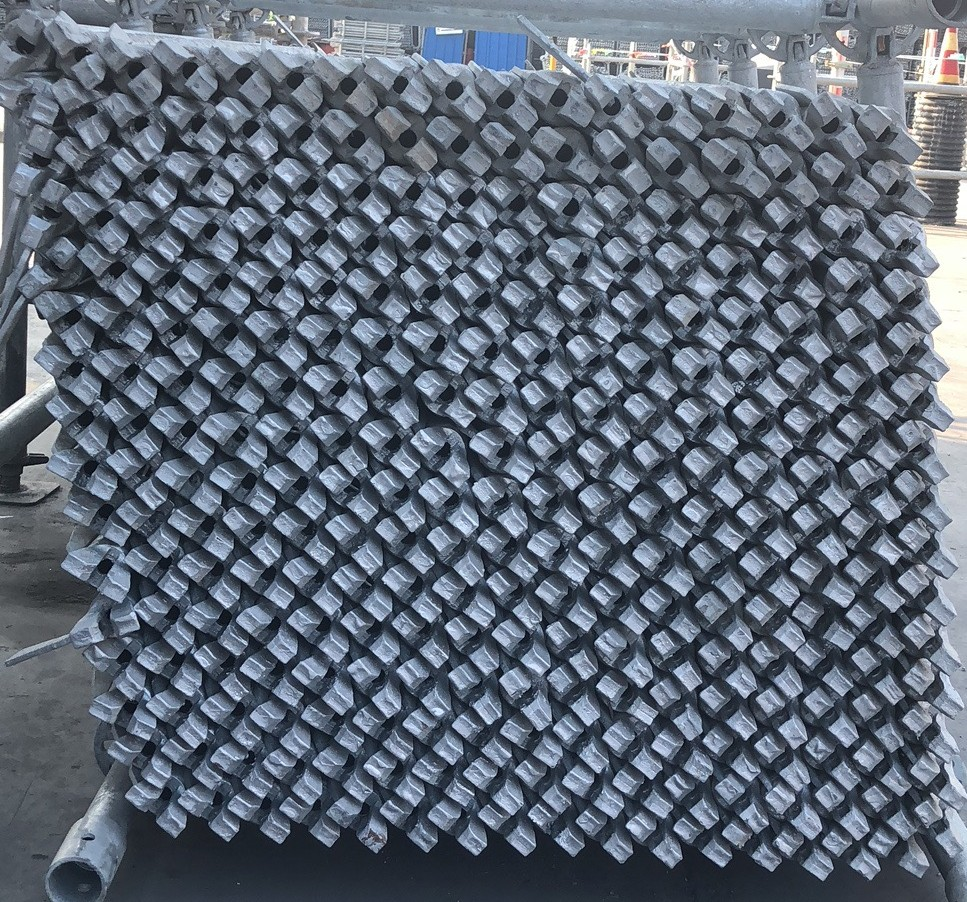NHsquare_steel: (96, 28, 166, 106), (641, 132, 712, 204), (372, 102, 442, 175), (107, 143, 179, 213), (753, 138, 822, 211), (422, 111, 496, 179), (214, 151, 289, 218), (631, 77, 706, 143), (99, 87, 165, 162), (43, 14, 107, 91), (210, 93, 280, 163), (223, 202, 293, 272), (74, 238, 143, 309), (154, 93, 228, 159), (163, 203, 239, 267), (149, 34, 220, 102), (116, 198, 187, 266), (417, 56, 489, 123), (472, 62, 544, 129), (265, 101, 337, 168), (531, 122, 603, 189), (821, 256, 893, 323), (860, 158, 937, 220), (158, 149, 235, 211), (319, 105, 388, 174), (257, 43, 325, 113), (749, 83, 817, 153), (271, 154, 341, 222), (642, 184, 713, 251), (362, 50, 434, 116), (813, 202, 887, 266), (373, 163, 448, 226), (720, 342, 788, 411), (326, 160, 393, 230), (605, 284, 675, 351), (534, 178, 605, 244), (812, 148, 884, 213), (592, 126, 656, 199), (701, 138, 774, 202), (207, 39, 274, 108), (56, 134, 123, 203), (730, 447, 799, 514), (128, 250, 198, 316), (86, 347, 157, 412), (806, 86, 870, 158), (880, 262, 942, 336), (524, 65, 599, 126), (433, 165, 501, 232), (59, 189, 127, 256), (774, 352, 841, 420), (479, 118, 548, 184), (345, 314, 416, 378), (341, 265, 414, 327), (495, 279, 568, 341), (484, 173, 551, 240), (100, 446, 167, 513), (334, 211, 400, 279), (49, 74, 108, 150), (182, 256, 253, 319), (236, 257, 307, 320), (564, 329, 626, 401), (389, 213, 455, 280), (438, 219, 504, 286), (582, 69, 647, 137), (554, 282, 622, 347), (680, 443, 745, 511), (856, 102, 925, 166), (761, 195, 825, 264), (716, 292, 786, 355), (591, 182, 659, 246), (771, 296, 834, 365), (140, 299, 202, 369), (152, 458, 224, 518), (689, 83, 762, 142), (315, 51, 380, 117), (190, 305, 256, 370), (243, 306, 308, 372), (877, 211, 941, 278), (664, 290, 732, 353), (687, 538, 750, 606), (755, 250, 827, 309), (292, 257, 358, 321), (281, 211, 349, 273), (885, 371, 953, 433), (834, 411, 902, 473), (355, 418, 423, 480), (196, 356, 265, 417), (83, 295, 153, 355), (200, 411, 270, 471), (844, 454, 903, 525), (205, 462, 277, 520), (601, 237, 665, 302), (674, 342, 738, 407), (491, 225, 554, 291), (576, 480, 639, 546), (781, 404, 849, 465), (313, 465, 382, 525), (172, 551, 241, 611), (707, 241, 771, 305), (736, 547, 800, 611), (398, 265, 463, 328), (43, 394, 106, 459), (789, 455, 852, 520), (36, 345, 102, 407), (543, 237, 616, 293), (405, 755, 478, 811), (800, 685, 861, 752), (673, 397, 742, 456), (464, 429, 538, 484), (789, 553, 859, 611), (58, 549, 129, 606), (225, 554, 296, 611), (887, 322, 952, 384), (598, 721, 663, 783), (302, 363, 368, 424), (149, 407, 215, 468), (122, 543, 189, 603), (6, 121, 58, 198), (572, 436, 641, 494), (625, 492, 694, 550), (454, 268, 511, 338), (32, 289, 89, 359), (678, 498, 749, 554), (510, 329, 574, 391), (616, 338, 678, 402), (572, 385, 634, 449), (145, 356, 210, 417), (425, 520, 486, 585), (378, 564, 443, 625), (729, 398, 795, 458), (232, 605, 298, 665), (441, 611, 501, 677), (702, 192, 770, 250), (833, 306, 891, 374), (647, 675, 705, 743), (298, 311, 361, 373), (835, 360, 898, 422), (411, 367, 473, 430), (255, 413, 318, 475), (655, 241, 719, 302), (526, 427, 587, 491), (20, 238, 80, 303), (361, 366, 421, 431), (263, 462, 328, 522), (734, 501, 799, 561), (742, 593, 807, 653), (629, 439, 688, 505), (525, 528, 591, 587), (533, 575, 599, 634), (313, 413, 371, 480), (18, 177, 71, 250), (428, 574, 498, 629), (463, 377, 526, 438), (898, 520, 959, 583), (386, 610, 449, 671), (252, 361, 316, 421), (340, 654, 400, 718), (459, 326, 525, 384), (894, 469, 952, 535), (635, 587, 701, 645), (168, 507, 235, 564), (401, 320, 471, 374), (198, 692, 261, 752), (416, 476, 480, 535), (753, 731, 812, 795), (114, 501, 179, 559), (225, 504, 283, 569), (634, 539, 699, 597), (577, 529, 643, 586), (347, 709, 414, 765), (257, 751, 325, 806), (592, 673, 661, 727), (45, 449, 118, 500), (846, 554, 907, 615), (339, 606, 400, 667), (625, 390, 685, 452), (841, 507, 903, 567), (331, 565, 391, 627), (325, 512, 384, 575), (522, 802, 585, 861), (699, 727, 763, 785), (414, 425, 471, 490), (471, 475, 528, 540), (474, 526, 539, 583), (898, 566, 955, 631), (270, 509, 336, 565), (521, 478, 582, 538), (285, 559, 345, 620), (589, 578, 651, 637), (510, 758, 572, 817), (521, 381, 579, 444), (791, 502, 849, 565), (595, 625, 653, 688), (697, 684, 760, 742), (450, 713, 513, 771), (327, 796, 390, 854), (428, 802, 491, 860), (748, 638, 805, 702), (487, 568, 543, 633), (123, 783, 188, 839), (62, 499, 133, 550), (496, 720, 563, 774), (375, 516, 435, 576), (699, 635, 757, 697), (289, 658, 351, 716), (489, 620, 552, 677), (850, 692, 907, 755), (761, 785, 824, 842), (898, 417, 950, 486), (792, 598, 857, 653), (448, 660, 502, 726), (207, 746, 273, 800), (500, 664, 553, 731), (466, 758, 525, 818), (904, 618, 962, 679), (403, 709, 464, 767), (853, 740, 911, 801), (146, 693, 208, 750), (369, 470, 425, 533), (652, 729, 716, 784), (668, 813, 732, 868), (183, 602, 248, 656), (296, 704, 366, 754), (224, 794, 290, 847), (236, 653, 303, 705), (381, 798, 440, 857), (752, 689, 808, 751), (103, 740, 171, 791), (104, 397, 159, 460), (276, 796, 339, 851), (649, 629, 703, 693), (561, 767, 625, 821), (611, 767, 675, 821), (176, 788, 240, 842), (361, 755, 427, 807), (250, 703, 308, 762), (846, 603, 906, 660), (552, 715, 609, 775), (134, 595, 190, 656), (623, 814, 684, 870), (82, 646, 144, 701), (545, 617, 598, 681), (548, 665, 601, 729), (821, 828, 885, 881), (190, 644, 248, 702), (903, 704, 959, 764), (315, 749, 377, 803), (815, 779, 868, 842), (854, 644, 906, 708), (138, 647, 202, 699), (867, 828, 932, 879), (576, 810, 634, 867), (805, 735, 861, 794), (288, 606, 348, 661), (86, 697, 156, 744), (773, 826, 835, 879), (2, 10, 47, 83), (696, 592, 753, 649), (796, 643, 853, 700), (906, 662, 962, 720), (163, 741, 227, 791), (665, 773, 721, 830), (912, 755, 967, 813), (478, 805, 537, 859), (398, 659, 451, 719), (723, 820, 783, 873), (719, 773, 771, 833), (1, 78, 62, 128), (863, 784, 916, 841), (914, 797, 963, 858), (71, 613, 140, 648)
